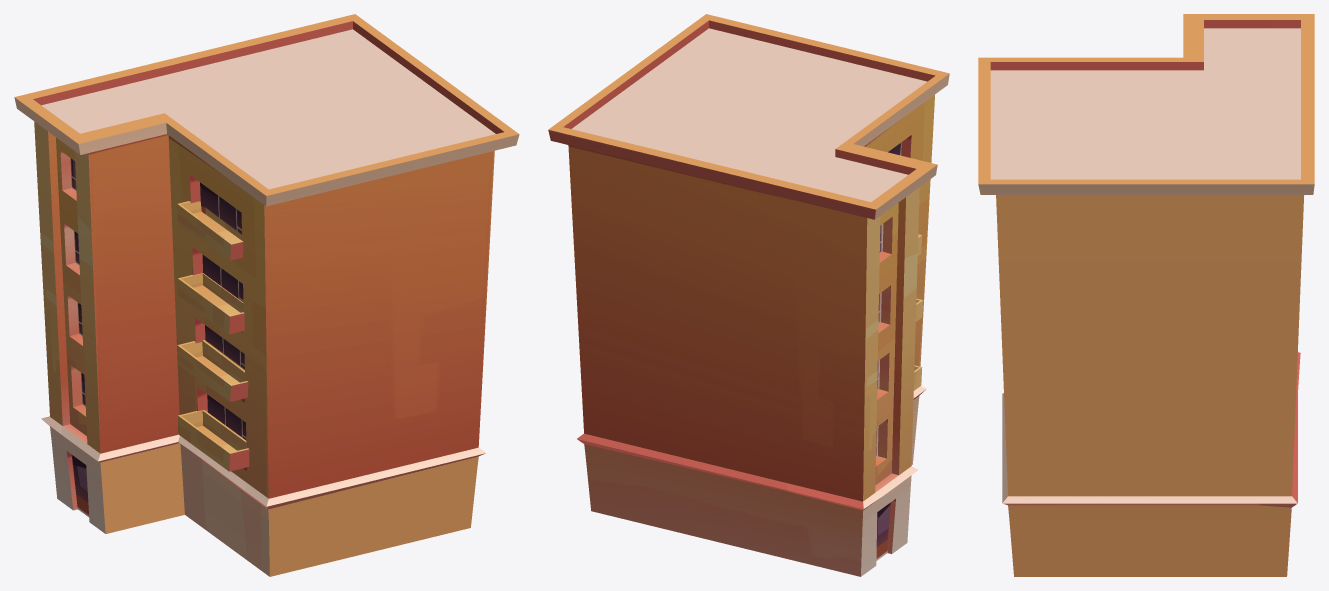
File: city_block_a.glb
The picture shows the model from 3 angles, left to right: view 1: azimuth 30°, elevation 25°; view 2: azimuth 150°, elevation 25°; view 3: azimuth 270°, elevation 25°; orthographic projection. The views are drawn at different scales.
Parts seen in each view (by area): view 1: P00; view 2: P00; view 3: P00.
Boxes of the visible parts, x1=… form: P00: x1=14, y1=14, x2=519, y2=576; P00: x1=548, y1=14, x2=949, y2=576; P00: x1=978, y1=14, x2=1314, y2=576.
Size of the model in its own units: 21.17 by 23.67 by 17.68.
Materials: 1 (1 with a texture image).
